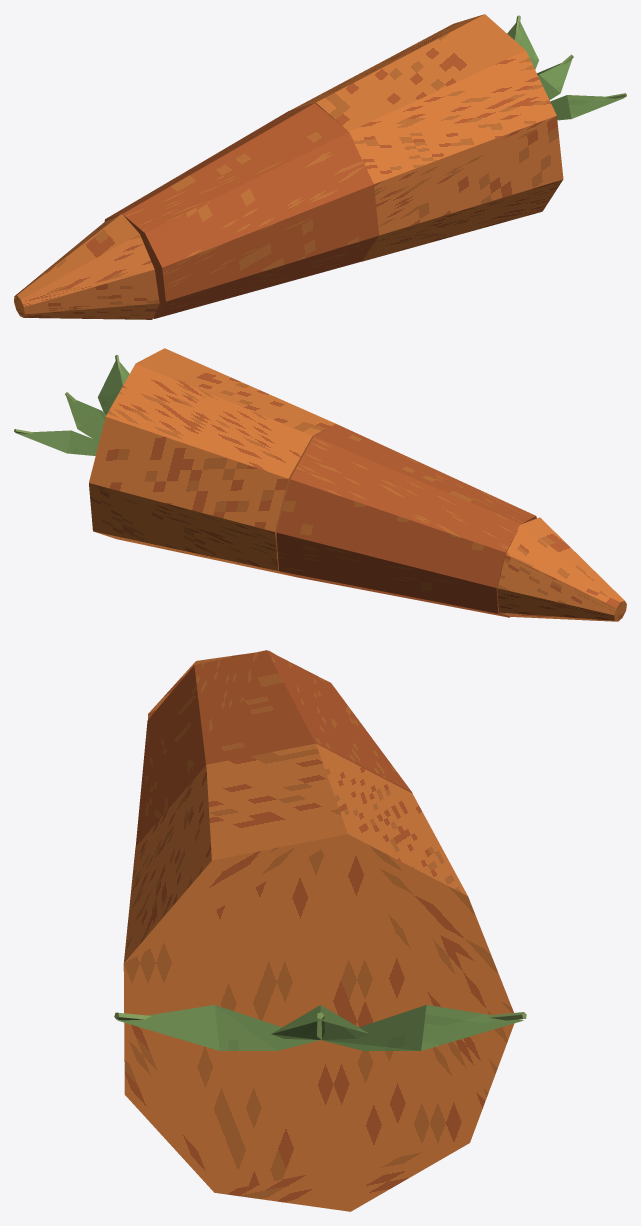
File: carrot.glb
The picture shows the model from 3 angles, top to bottom: view 1: azimuth 30°, elevation 25°; view 2: azimuth 150°, elevation 25°; view 3: azimuth 270°, elevation 25°; orthographic projection. The views are drawn at different scales.
Parts seen in each view (by area): view 1: block_tapering root 2, block_tapering root 1, block_tapering root 0, block_trimmed leaf stalk tip (×2); view 2: block_tapering root 2, block_tapering root 1, block_tapering root 0, block_trimmed leaf stalk tip (×3), block_trimmed leaf stalk blade (×2); view 3: block_tapering root 2, block_tapering root 1, block_trimmed leaf stalk blade (×2), block_trimmed leaf stalk tip (×2).
Boxes of the visible parts, x1,y1,x2,y2 form: block_tapering root 2: [291, 14, 563, 261]; block_tapering root 1: [104, 103, 378, 318]; block_tapering root 0: [14, 214, 159, 319]; block_trimmed leaf stalk tip (×2): [539, 59, 625, 118]; block_tapering root 2: [89, 348, 335, 576]; block_tapering root 1: [276, 424, 536, 617]; block_tapering root 0: [497, 517, 626, 621]; block_trimmed leaf stalk tip (×3): [16, 361, 122, 453]; block_trimmed leaf stalk blade (×2): [67, 411, 104, 455]; block_tapering root 2: [123, 743, 514, 1211]; block_tapering root 1: [135, 650, 412, 846]; block_trimmed leaf stalk blade (×2): [214, 1005, 426, 1050]; block_trimmed leaf stalk tip (×2): [117, 1005, 523, 1050].
Bounding box in the file's own units: 0.19 × 0.0609 × 0.0624.
Materials: 2 (2 with a texture image).
